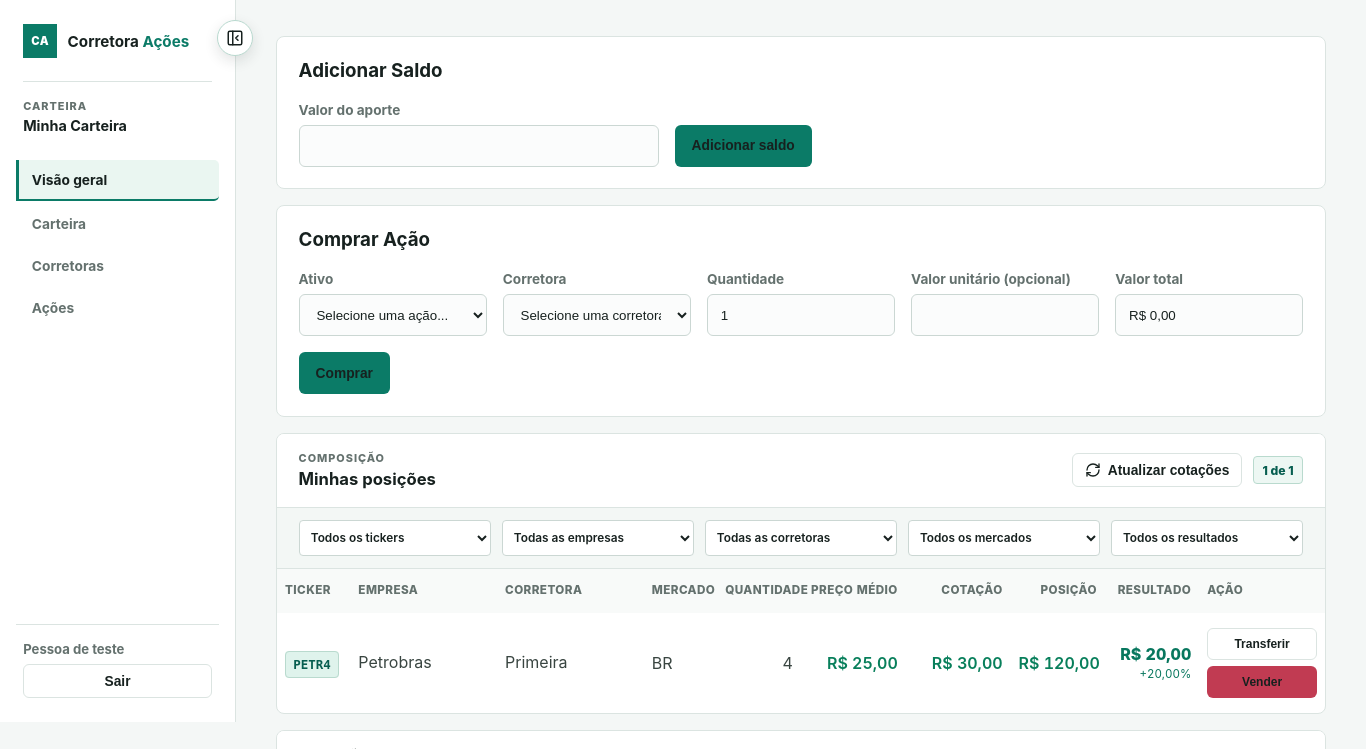
operacoes da carteira › nao transfere sem escolher uma corretora de destino
The width and height of the screenshot is (1366, 749).
Expected: the cell "Petrobras" is shown, [350,613,497,713]
Step 1. Click the button "Transferir" → (1262, 644), box [1207,628,1317,660]
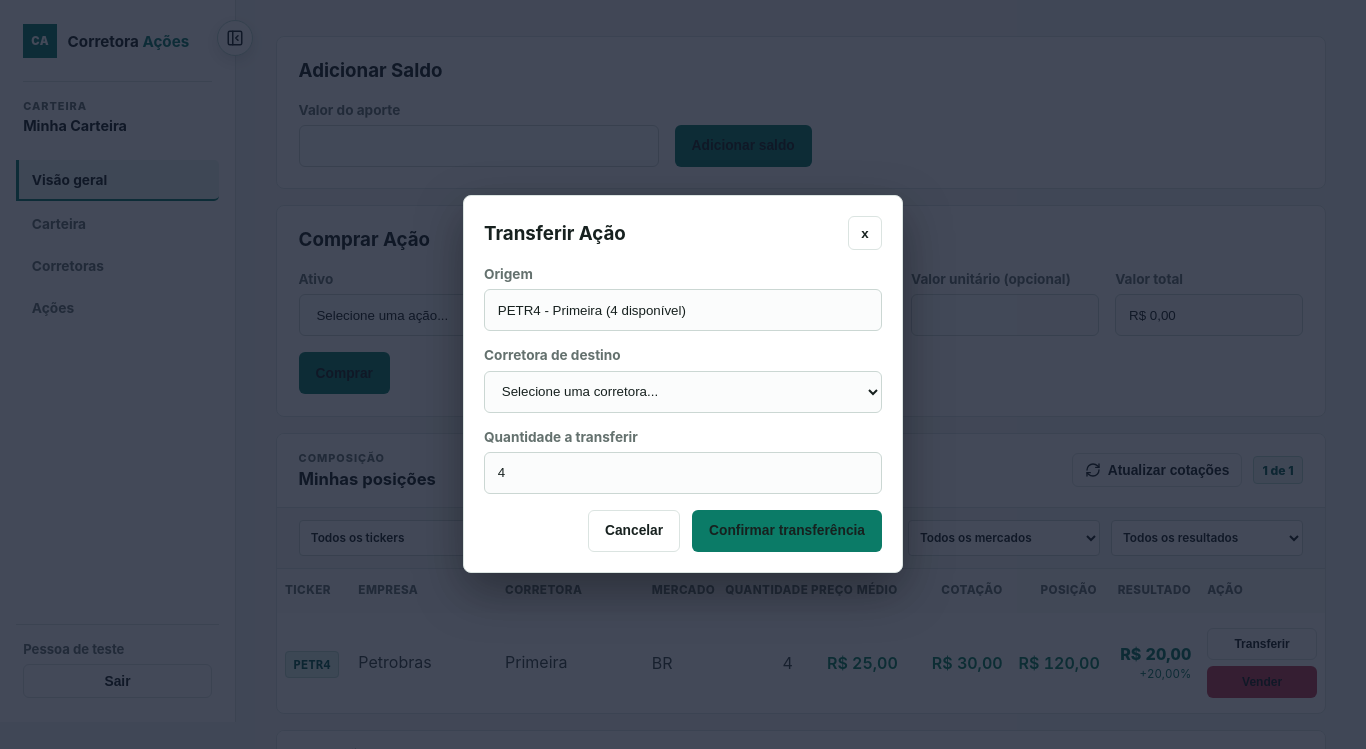
Step 2. Submit the form named "Confirmar transferência", box [484,266,882,552]
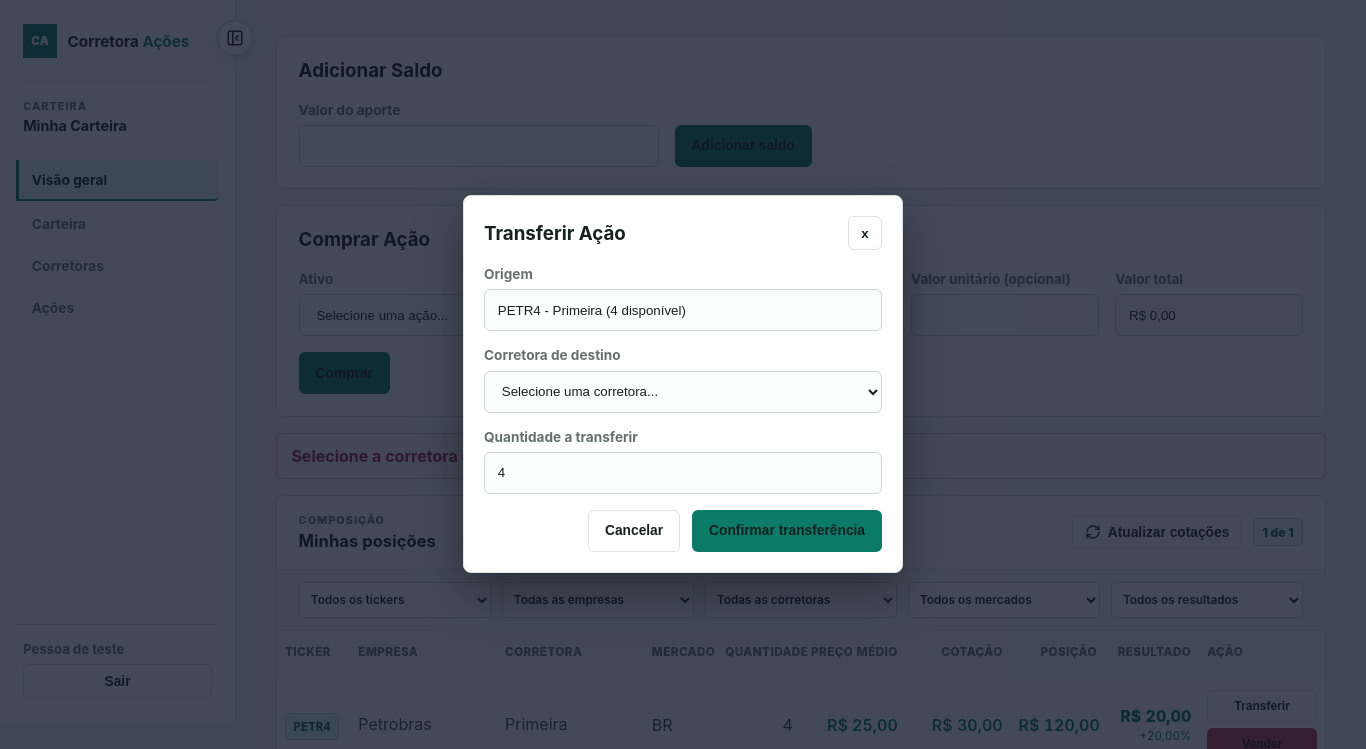
Expected: the text "Selecione a corretora de destino e informe uma quantidade válida." is shown, [276,433,1326,479]
